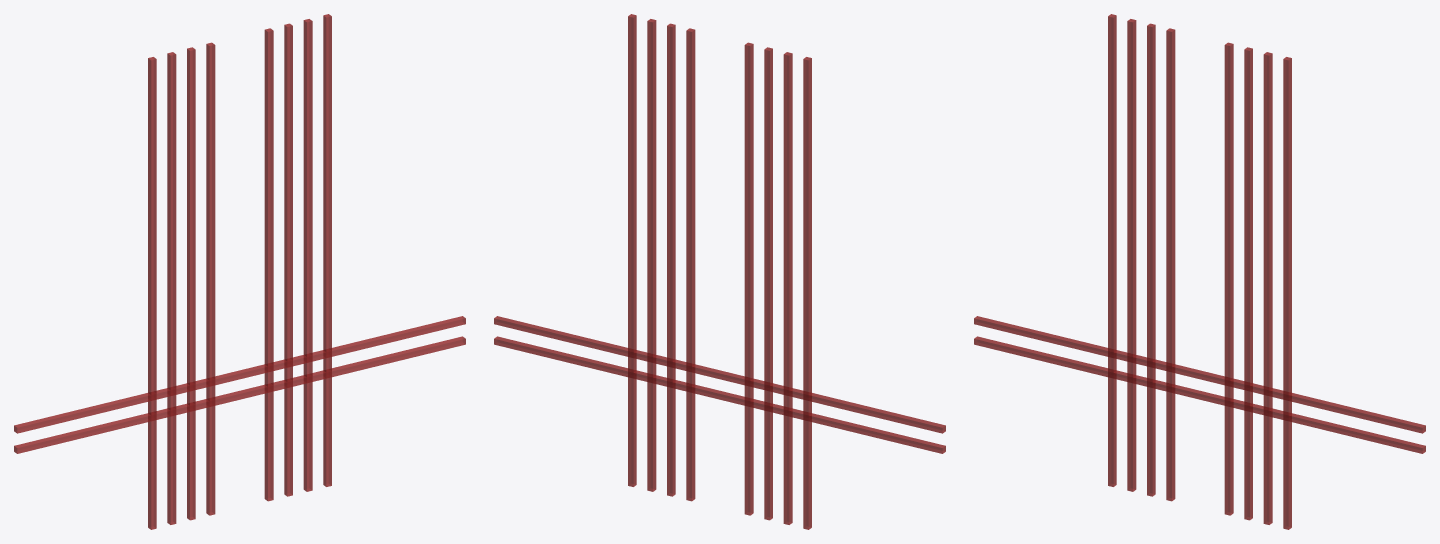
File: Lvl_024.fbx
3 renders of one model, left to right at view 1: azimuth 30°, elevation 25°; view 2: azimuth 150°, elevation 25°; view 3: azimuth 330°, elevation 25°, orthographic.
Parts seen in each view (by area): view 1: pCube8, pCube10, pCube3, pCube5, pCube1, pCube12, pCube9, pCube4, pCube11, pCube6; view 2: pCube8, pCube10, pCube3, pCube5, pCube1, pCube12, pCube9, pCube4, pCube11, pCube6; view 3: pCube3, pCube5, pCube8, pCube10, pCube1, pCube12, pCube4, pCube9, pCube6, pCube11.
Boxes of the visible parts, bbox=[...] form: pCube8: bbox=[206, 42, 215, 515]; pCube10: bbox=[167, 52, 176, 524]; pCube3: bbox=[264, 28, 273, 501]; pCube5: bbox=[303, 19, 312, 491]; pCube1: bbox=[14, 336, 465, 453]; pCube12: bbox=[14, 316, 465, 433]; pCube9: bbox=[187, 47, 195, 520]; pCube4: bbox=[284, 23, 292, 496]; pCube11: bbox=[148, 57, 156, 529]; pCube6: bbox=[323, 14, 331, 486]; pCube8: bbox=[744, 42, 753, 515]; pCube10: bbox=[783, 52, 792, 524]; pCube3: bbox=[686, 28, 695, 501]; pCube5: bbox=[647, 19, 656, 491]; pCube1: bbox=[494, 336, 945, 453]; pCube12: bbox=[494, 316, 945, 433]; pCube9: bbox=[764, 47, 772, 520]; pCube4: bbox=[667, 23, 675, 496]; pCube11: bbox=[803, 57, 811, 529]; pCube6: bbox=[628, 14, 636, 486]; pCube3: bbox=[1224, 42, 1233, 515]; pCube5: bbox=[1263, 52, 1272, 524]; pCube8: bbox=[1166, 28, 1175, 501]; pCube10: bbox=[1127, 19, 1136, 491]; pCube1: bbox=[974, 336, 1425, 453]; pCube12: bbox=[974, 316, 1425, 433]; pCube4: bbox=[1244, 47, 1252, 520]; pCube9: bbox=[1147, 23, 1155, 496]; pCube6: bbox=[1283, 57, 1291, 529]; pCube11: bbox=[1108, 14, 1116, 486].
Bounding box in the file's own units: 2000 × 2000 × 25.
